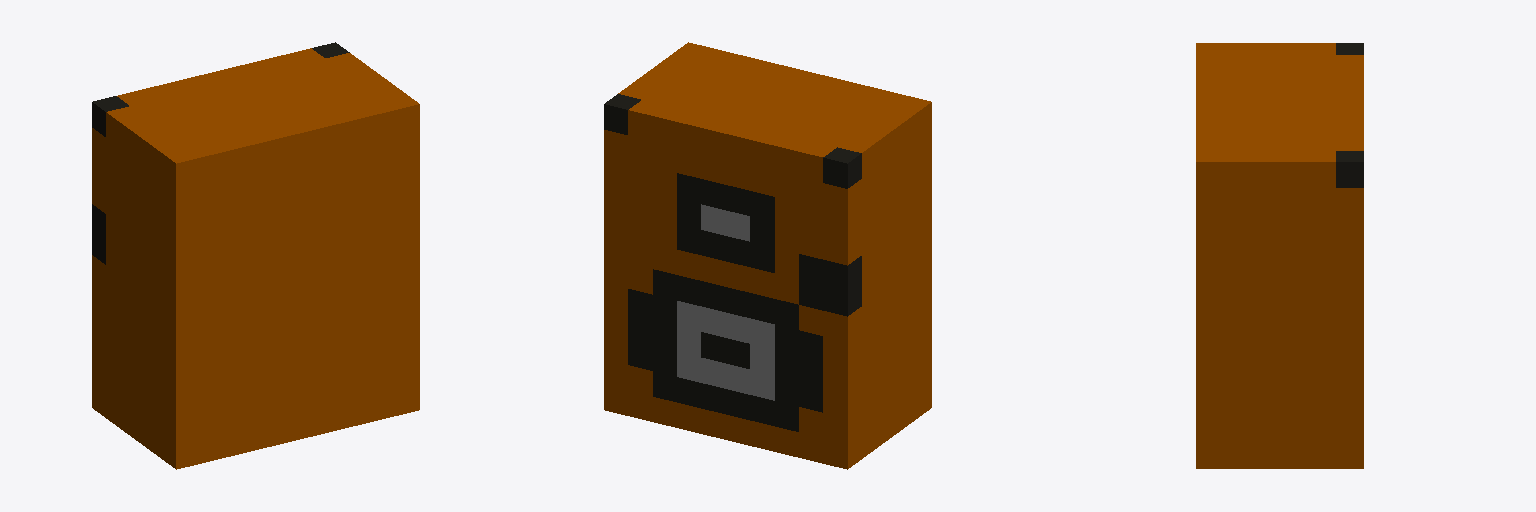
The picture shows the model from 3 angles: view 1: azimuth 30°, elevation 25°; view 2: azimuth 150°, elevation 25°; view 3: azimuth 270°, elevation 25°; orthographic projection.
Visible parts, largest first — view 1: object 1; view 2: object 1; view 3: object 1.
Part boxes in pixels (x1,y1,x2,y2): object 1: (92, 42, 419, 469); object 1: (604, 42, 931, 469); object 1: (1196, 43, 1363, 468).
Size of the model in its own units: 1 by 1.2 by 0.6.
Materials: 1 (1 with a texture image).